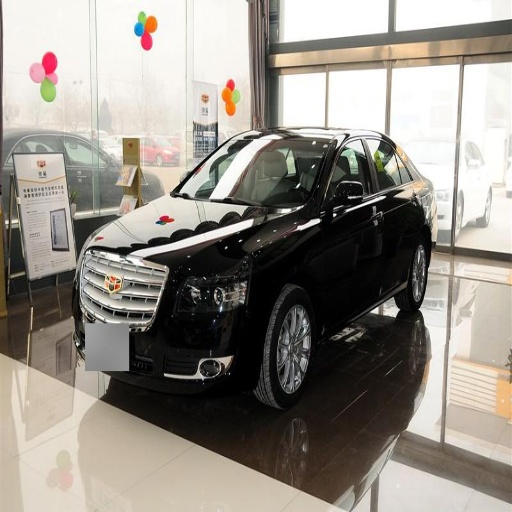front_bumper: (80, 246, 259, 391)
front_glass: (172, 137, 328, 203)
front_left_door: (323, 136, 384, 323)
